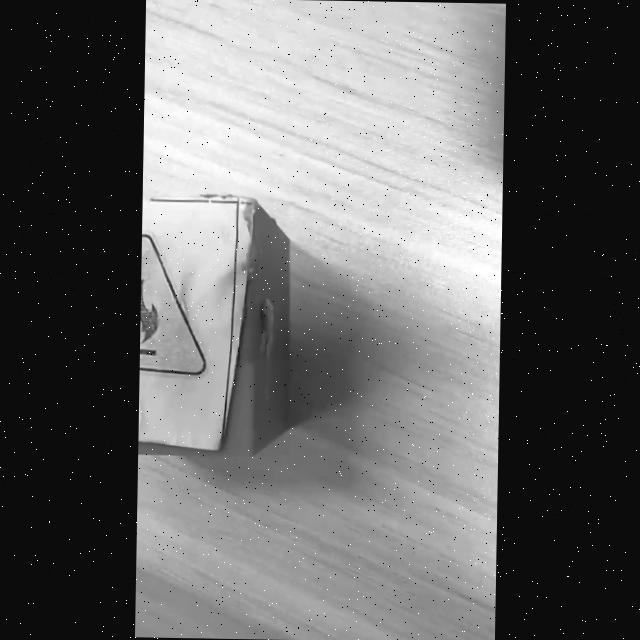Fire: (140, 234, 206, 375)
